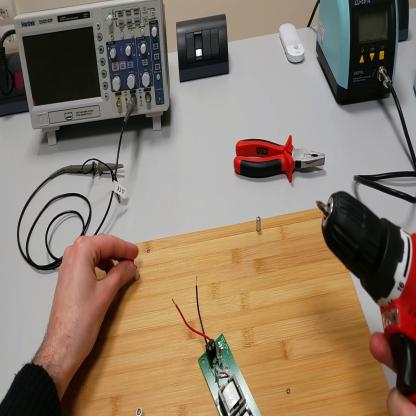electric screwdriver: (316, 181, 415, 412)
hand: (46, 233, 140, 368), (369, 329, 416, 416)
high voltage board: (173, 276, 262, 414)
oscilloscope: (16, 3, 173, 146)
oscilloscope probe tip: (64, 161, 124, 179)
pliers: (233, 134, 326, 187)
socket: (1, 54, 31, 118), (400, 1, 412, 48)
welder station: (319, 1, 399, 107)
working area: (61, 209, 391, 416)
